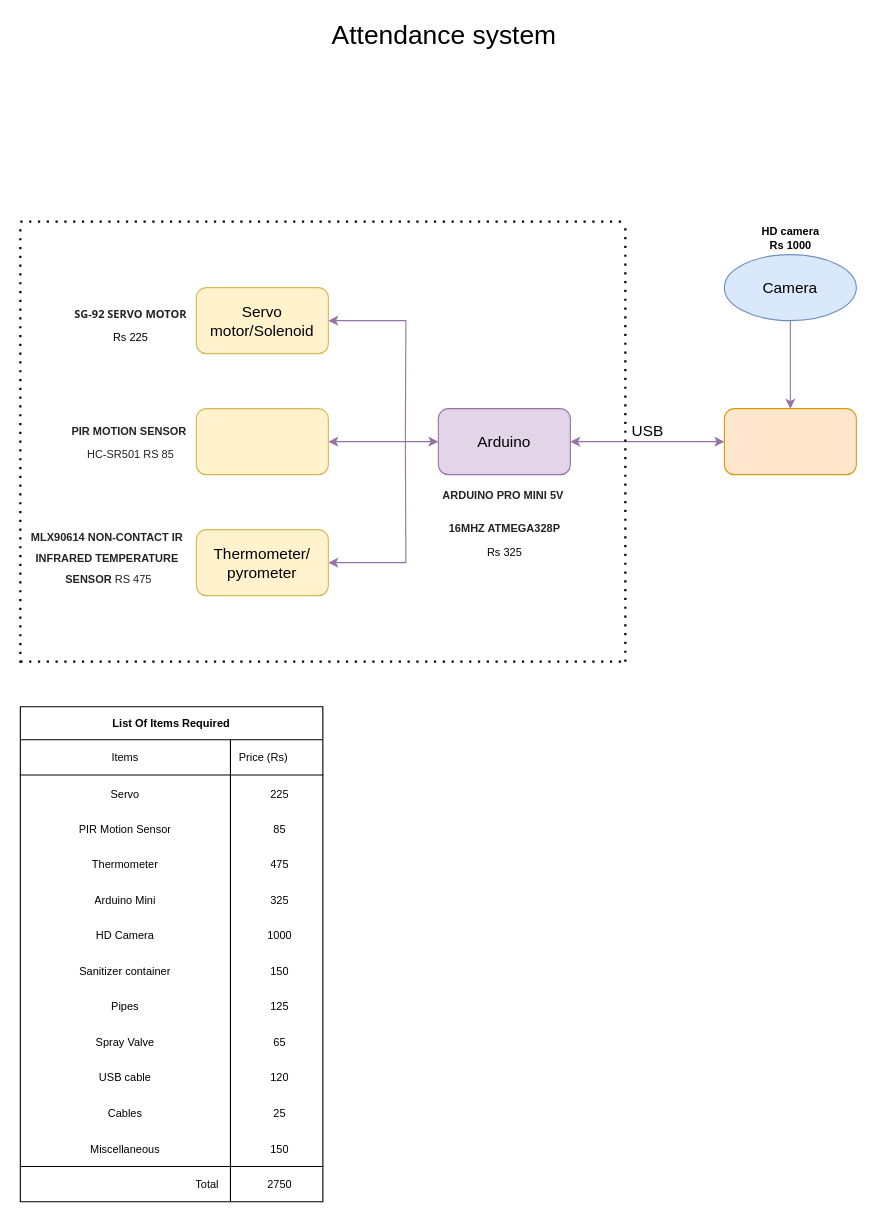
Some shapes in this 876 by 1221 pixel diagram are drawn without their labels. Here are the shapes that lost their labels. From the top down, the centre of each, then its label:
At (x=261, y=441): "Motion/Light sensor".
At (x=789, y=441): "Computer".
